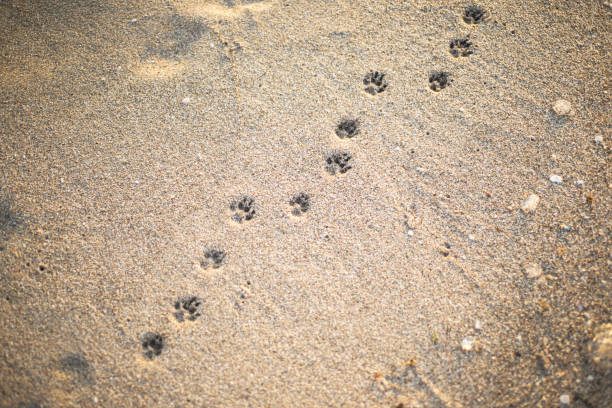animal_footprint: (60, 353, 94, 383), (174, 296, 202, 321), (229, 196, 255, 222), (325, 151, 351, 175), (141, 332, 163, 359), (363, 71, 387, 94), (335, 119, 360, 139), (200, 248, 225, 268), (449, 36, 473, 56), (289, 193, 310, 215), (234, 281, 250, 309), (462, 5, 486, 23), (429, 71, 450, 91)
